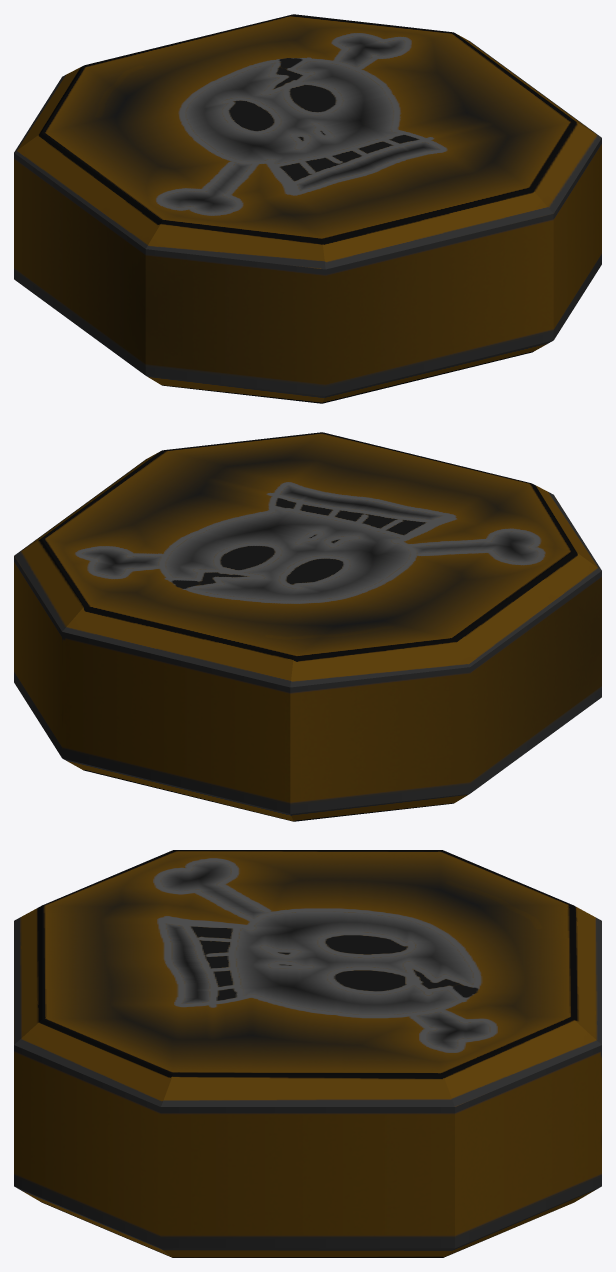
File: gemstone01.FBX
The picture shows the model from 3 angles, top to bottom: view 1: azimuth 30°, elevation 25°; view 2: azimuth 150°, elevation 25°; view 3: azimuth 270°, elevation 25°; orthographic projection. The views are drawn at different scales.
Visible parts, largest first — view 1: Box002; view 2: Box002; view 3: Box002.
Part boxes in pixels (left/top/right/bottom): Box002: left=14, top=14, right=601, bottom=403; Box002: left=14, top=432, right=601, bottom=821; Box002: left=14, top=850, right=601, bottom=1257.
Size of the model in its own units: 18.86 by 6.47 by 18.86.
